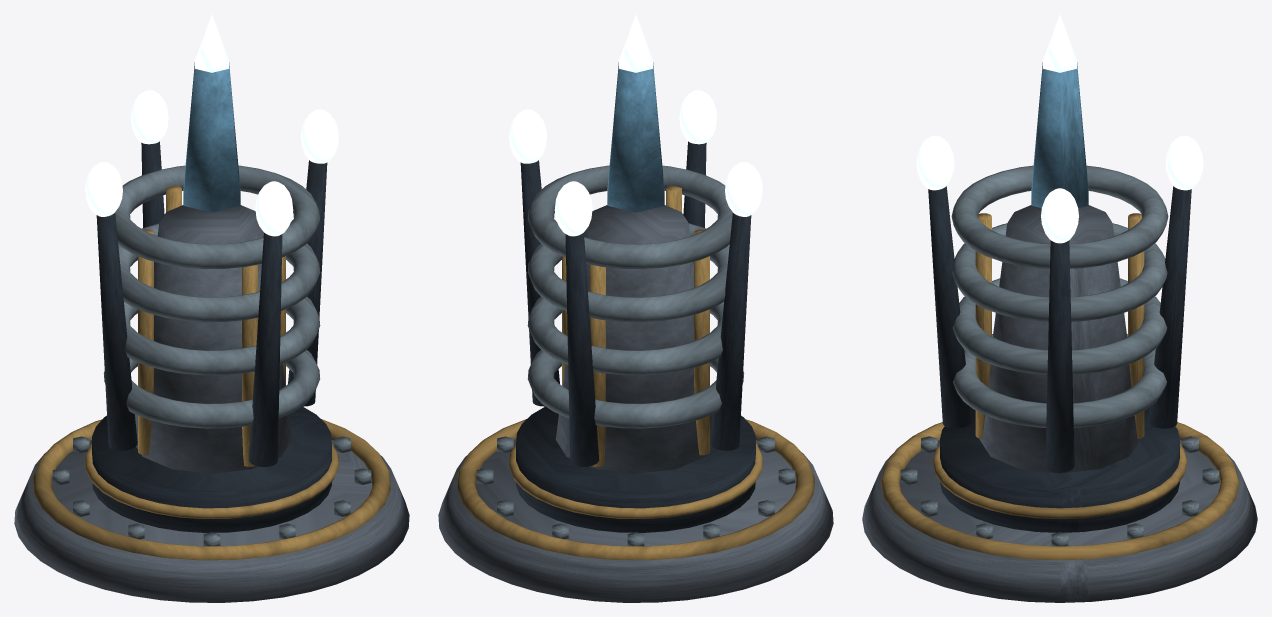
The model's file is tower_slow_1.glb.
3 views of the same model, side by side, from view 1: azimuth 30°, elevation 25°; view 2: azimuth 150°, elevation 25°; view 3: azimuth 270°, elevation 25° (orthographic).
Parts seen in each view (by area): view 1: Weathered_granite, Weathered_blue_steel, Antique_brass, Forged_black_iron.001, Forged_black_iron, Frost_core, Blue_glacial_ice; view 2: Weathered_granite, Weathered_blue_steel, Antique_brass, Forged_black_iron.001, Forged_black_iron, Frost_core, Blue_glacial_ice; view 3: Weathered_granite, Weathered_blue_steel, Forged_black_iron.001, Antique_brass, Forged_black_iron, Blue_glacial_ice, Frost_core.
Boxes of the visible parts, x1,y1,x2,y2 form: Weathered_granite: (14,205,409,602); Weathered_blue_steel: (52,165,371,546); Antique_brass: (33,185,390,560); Forged_black_iron.001: (96,141,327,466); Forged_black_iron: (92,406,331,532); Frost_core: (85,14,338,236); Blue_glacial_ice: (183,62,240,212); Weathered_granite: (438,205,833,602); Weathered_blue_steel: (476,165,795,546); Antique_brass: (457,185,814,560); Forged_black_iron.001: (520,141,751,466); Forged_black_iron: (516,406,755,532); Frost_core: (509,14,762,236); Blue_glacial_ice: (607,62,664,212); Weathered_granite: (862,205,1257,602); Weathered_blue_steel: (900,165,1219,546); Forged_black_iron.001: (928,186,1191,472); Antique_brass: (880,213,1239,560); Forged_black_iron: (940,407,1179,532); Blue_glacial_ice: (1031,62,1088,208); Frost_core: (916,14,1203,243).
Size of the model in its own units: 2.7 by 3.81 by 2.7.
6 materials, 5 textured.
